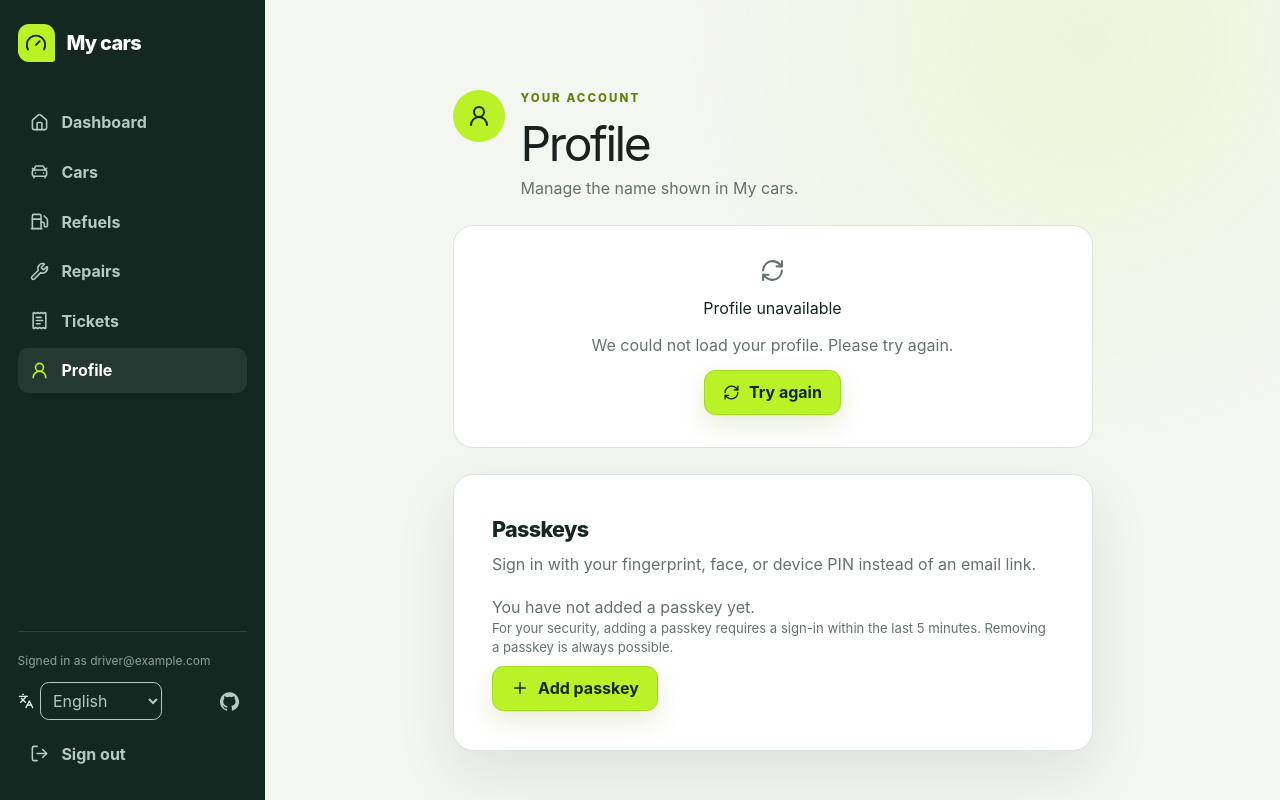
Test: profile screen › shows a retryable error when the profile cannot be loaded
The width and height of the screenshot is (1280, 800).
expect the message shows "Profile unavailable": met, box [703,298,842,318]
Click the button "Try again" at (772, 392), box [704,370,841,415]
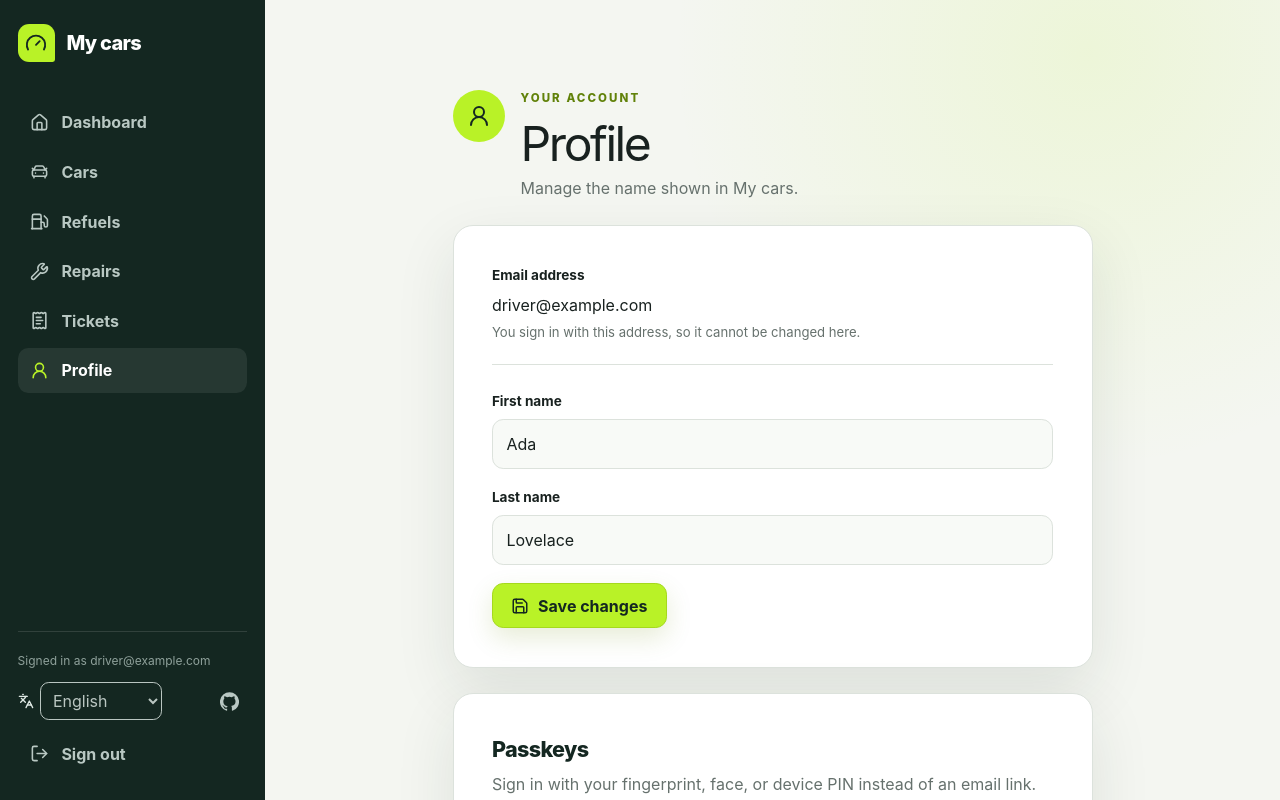
expect the field labelled "First name" holds "Ada": met, box [506,420,1038,468]
